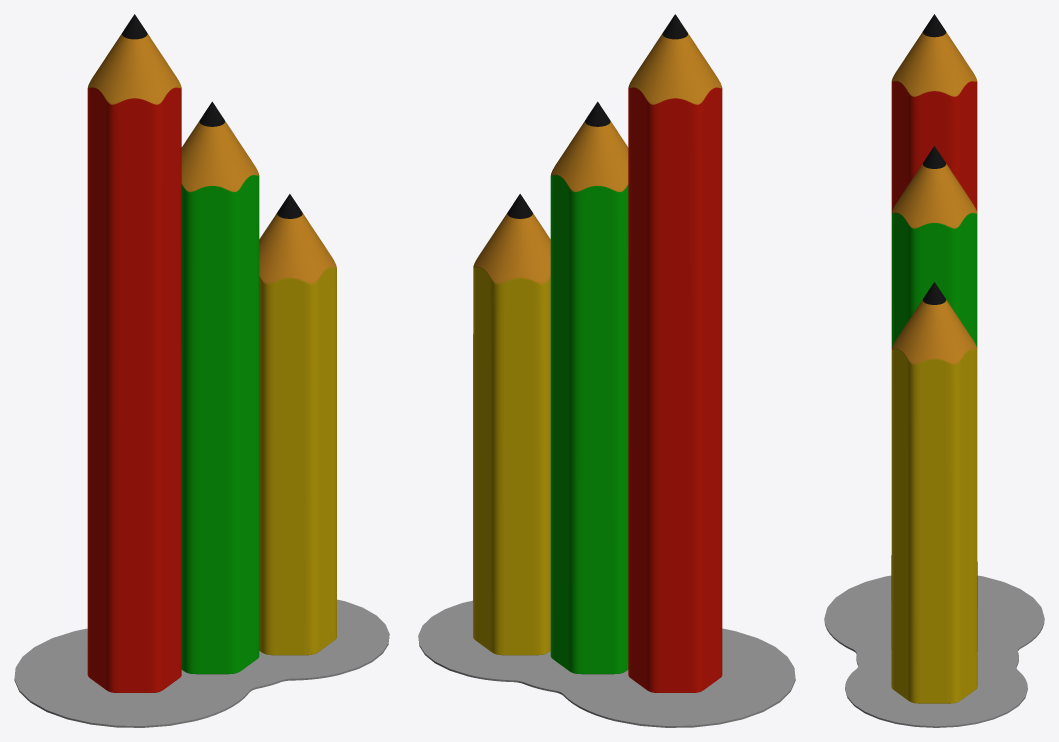
Rendered from pencil_01.fbx.
3 renders of one model, left to right at view 1: azimuth 30°, elevation 25°; view 2: azimuth 150°, elevation 25°; view 3: azimuth 270°, elevation 25°, orthographic. The views are drawn at different scales.
Visible parts, largest first — view 1: Object005, Object003, Object001, Circle001, Object006, Object004, Object002; view 2: Object005, Object003, Object001, Circle001, Object006, Object004, Object002; view 3: Object001, Circle001, Object003, Object005, Object004, Object002, Object006.
Part boxes in pixels (x1=…): Object005: x1=87, y1=87, x2=181, y2=692; Object003: x1=181, y1=175, x2=259, y2=674; Object001: x1=259, y1=267, x2=336, y2=655; Circle001: x1=14, y1=599, x2=389, y2=727; Object006: x1=88, y1=33, x2=181, y2=104; Object004: x1=181, y1=121, x2=258, y2=191; Object002: x1=259, y1=213, x2=336, y2=284; Object005: x1=628, y1=87, x2=722, y2=692; Object003: x1=550, y1=175, x2=628, y2=674; Object001: x1=473, y1=267, x2=550, y2=655; Circle001: x1=418, y1=600, x2=795, y2=727; Object006: x1=628, y1=33, x2=721, y2=104; Object004: x1=551, y1=121, x2=628, y2=191; Object002: x1=473, y1=213, x2=550, y2=284; Object001: x1=891, y1=349, x2=977, y2=703; Circle001: x1=824, y1=575, x2=1044, y2=727; Object003: x1=891, y1=213, x2=977, y2=651; Object005: x1=891, y1=81, x2=977, y2=606; Object004: x1=891, y1=163, x2=977, y2=228; Object002: x1=891, y1=299, x2=977, y2=364; Object006: x1=892, y1=32, x2=976, y2=96.
Size of the model in its own units: 98.16 by 179 by 59.04.
